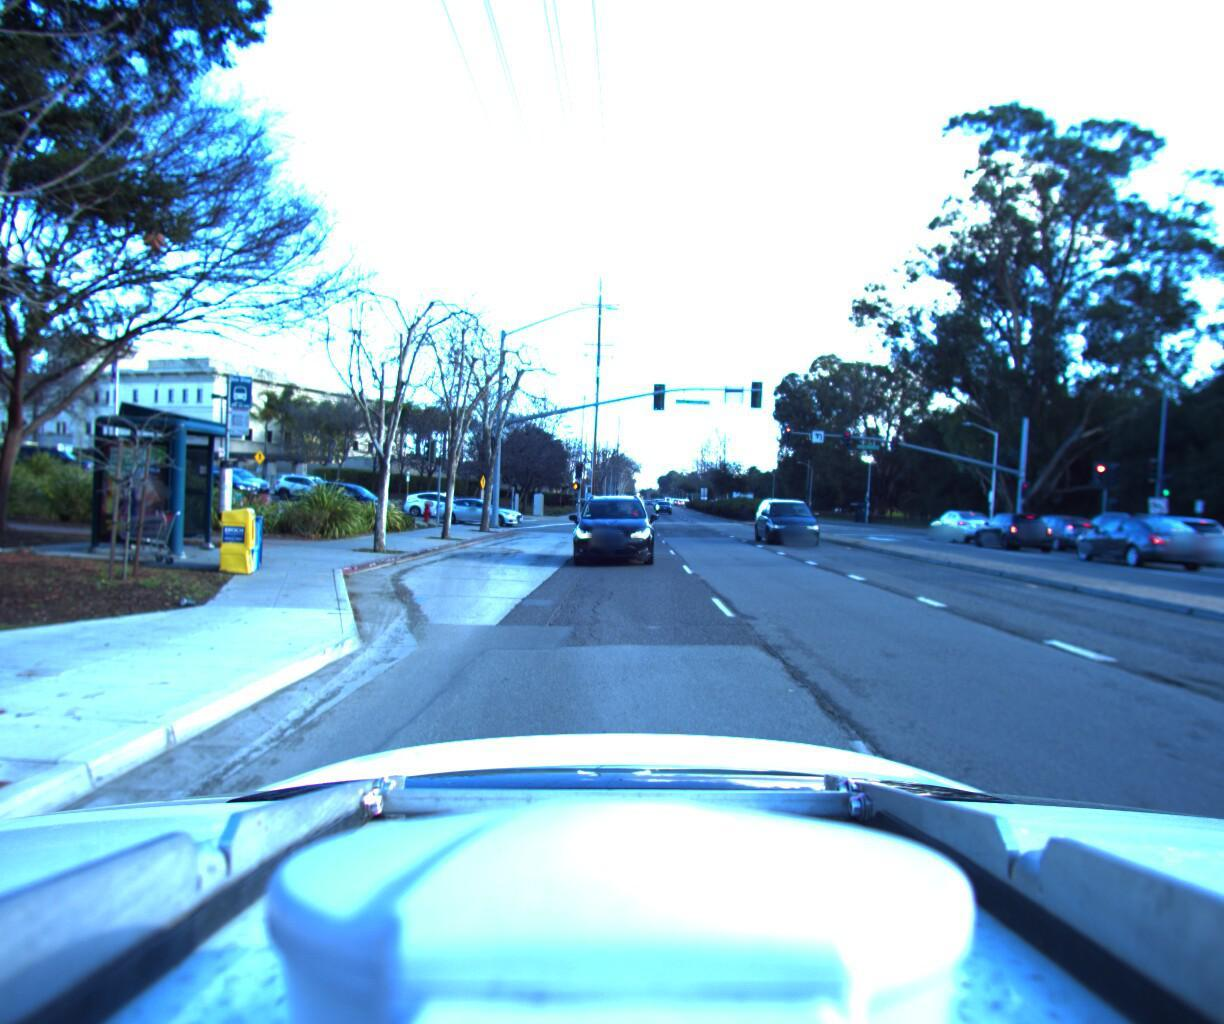car: (1067, 505, 1224, 567), (562, 485, 654, 568), (1094, 504, 1224, 562), (754, 489, 833, 545), (1013, 504, 1114, 547), (968, 501, 1060, 547), (306, 473, 402, 513), (430, 488, 530, 521), (267, 466, 355, 500), (926, 500, 1002, 538), (399, 483, 486, 514), (199, 458, 278, 491), (1181, 514, 1224, 566)
